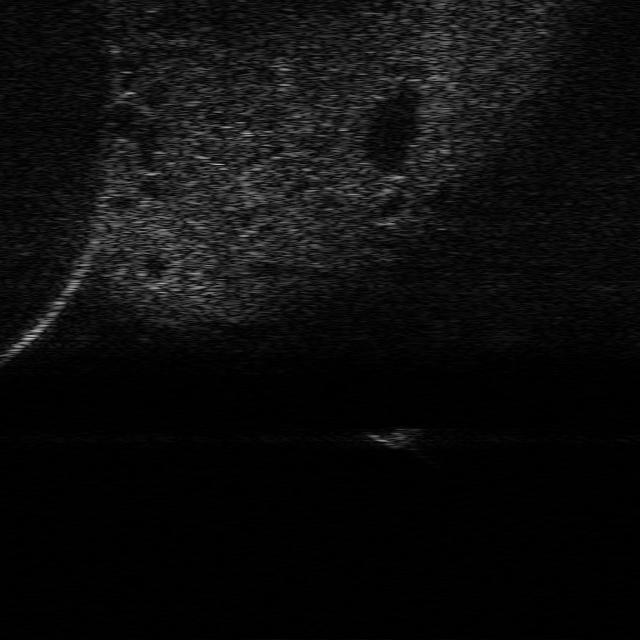cube: (365, 422, 420, 448)
